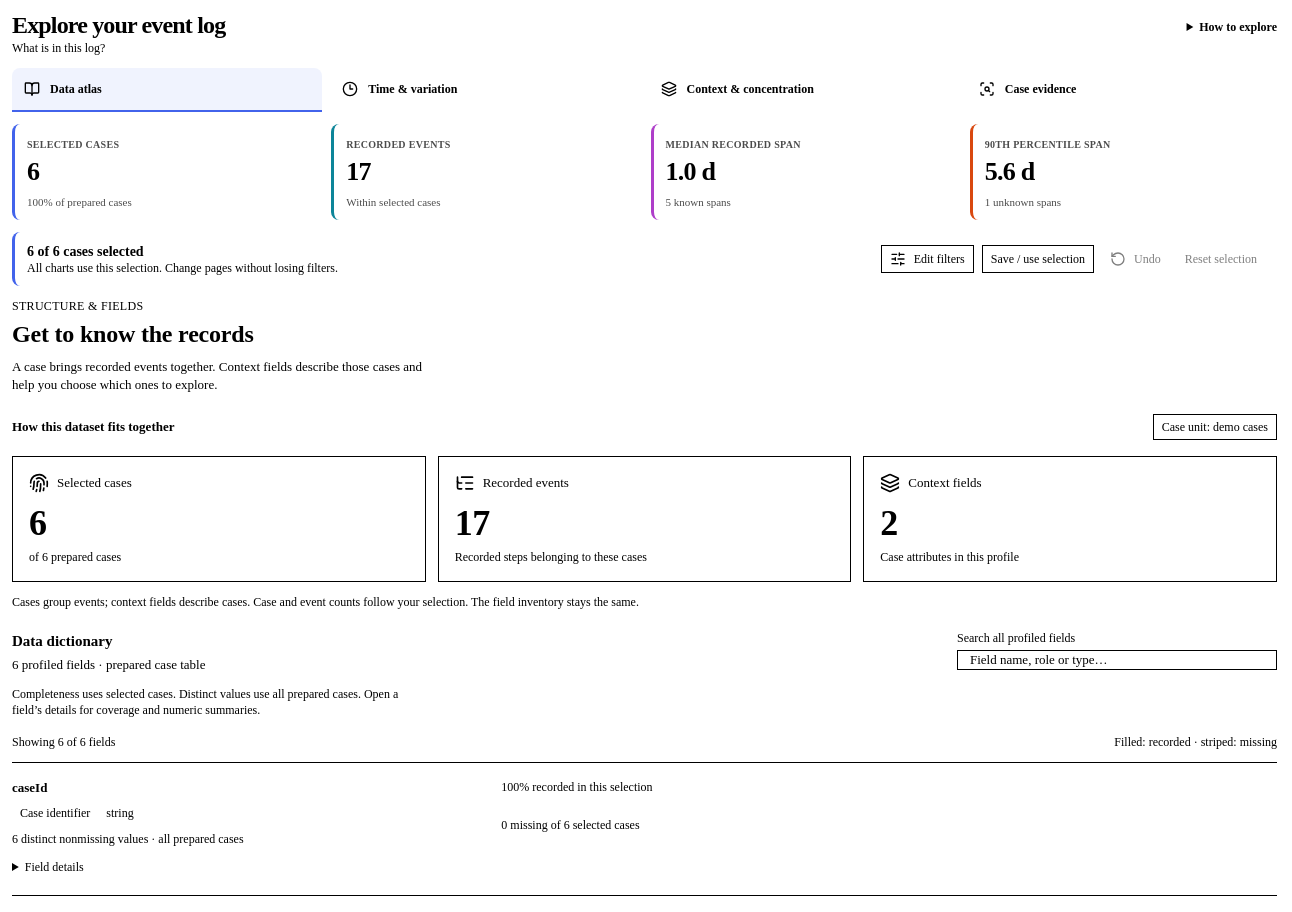
Test case: puts scoped population evidence before filter controls with introductory guidance closed
Expected: the element named "Selected population summary" shows "SELECTED CASES", [27, 139, 119, 150]
Expected: the element named "Selected population summary" shows "of prepared cases", [53, 196, 132, 208]
What coordinates should you click on to do the following:
click the heading "How to explore"
I would click on:
 (1238, 27)
Its box is [1199, 20, 1277, 34].
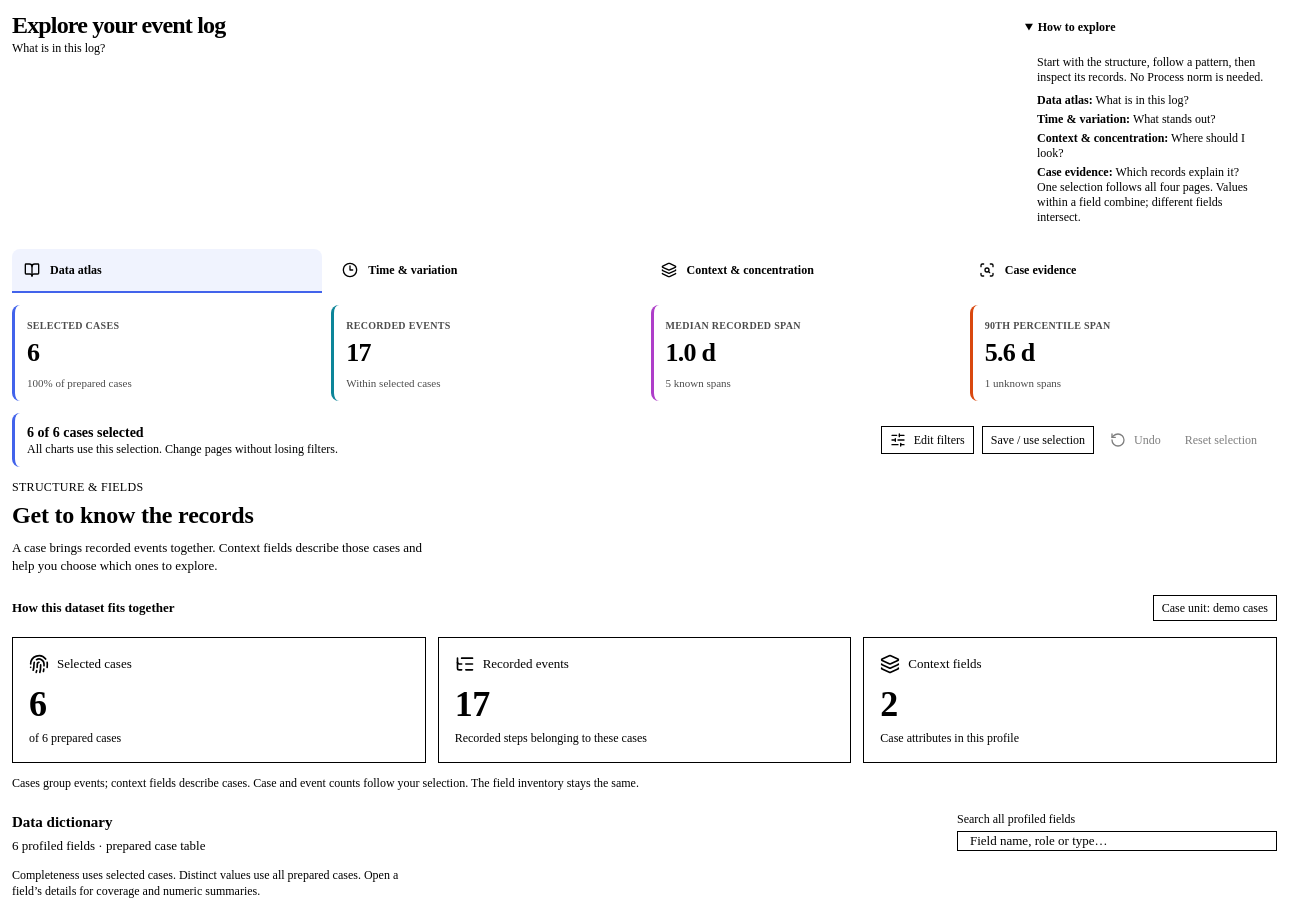
Now the text "different fields intersect" is shown, box [1037, 180, 1248, 224]
